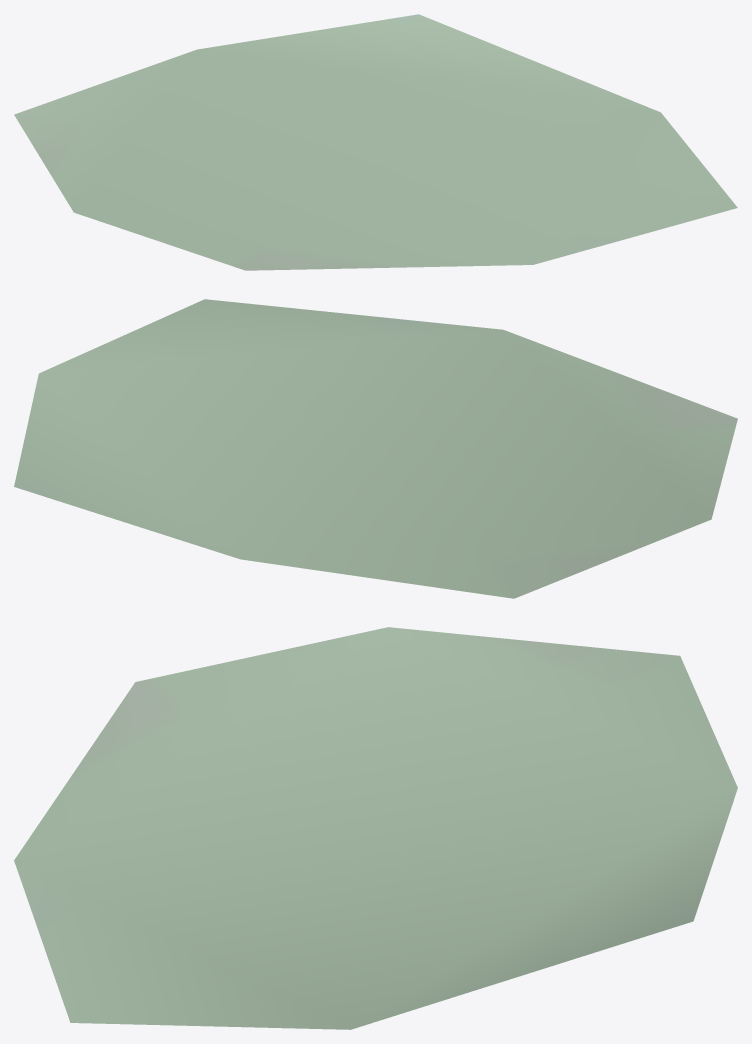
File: TROLLHOLE02_HOLECAP195.fbx
3 views of the same model, one above another, from view 1: azimuth 30°, elevation 25°; view 2: azimuth 150°, elevation 25°; view 3: azimuth 270°, elevation 25° (orthographic). The views are drawn at different scales.
Parts seen in each view (by area): view 1: TROLLHOLE02_HOLECAP195; view 2: TROLLHOLE02_HOLECAP195; view 3: TROLLHOLE02_HOLECAP195.
Boxes of the visible parts, left/top/right/bottom form: TROLLHOLE02_HOLECAP195: left=14, top=14, right=737, bottom=270; TROLLHOLE02_HOLECAP195: left=14, top=299, right=737, bottom=598; TROLLHOLE02_HOLECAP195: left=14, top=627, right=737, bottom=1029.
Bounding box in the file's own units: 14882 × 1042 × 12482.
1 material, 1 textured.
